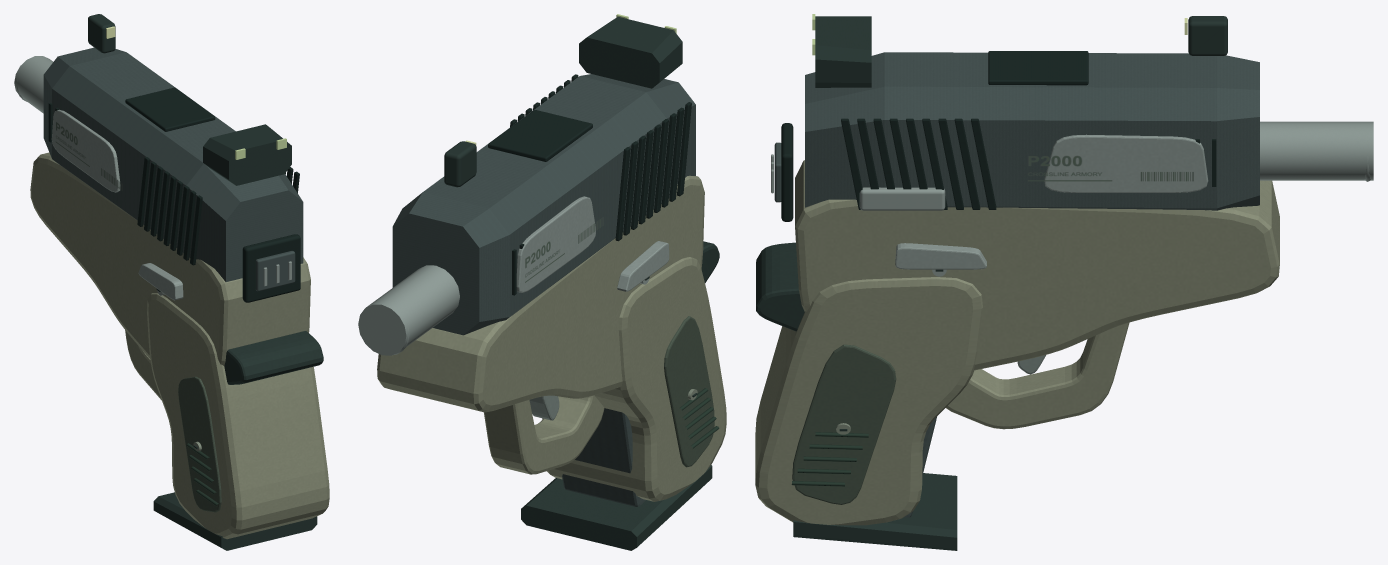
3 renders of one model, left to right at view 1: azimuth 30°, elevation 25°; view 2: azimuth 150°, elevation 25°; view 3: azimuth 270°, elevation 25°, orthographic. The views are drawn at different scales.
Visible parts, largest first — view 1: p2000, bolt, magazine; view 2: p2000, bolt, magazine; view 3: p2000, bolt, magazine.
Boxes of the visible parts, box(x1,y1,x2,y2) form: p2000: box(14, 56, 329, 539); bolt: box(43, 14, 303, 281); magazine: box(153, 492, 317, 550); p2000: box(358, 175, 726, 501); bolt: box(392, 14, 695, 335); magazine: box(521, 408, 712, 550); p2000: box(755, 121, 1373, 525); bolt: box(805, 14, 1259, 210); magazine: box(793, 417, 957, 550).
Size of the model in its own units: 0.1045 by 0.3776 by 0.4186.
15 materials, 12 textured.
